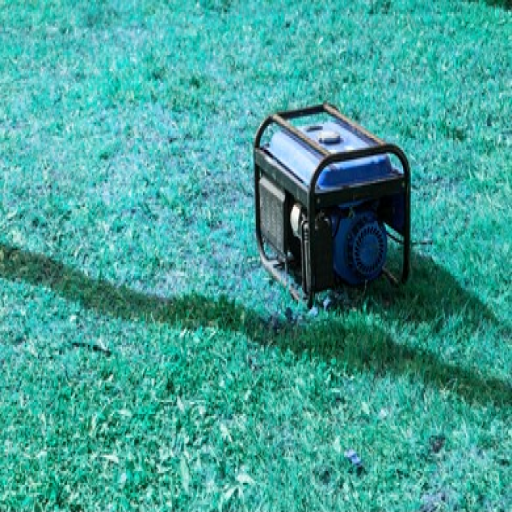portable_generator: (252, 101, 413, 312)
